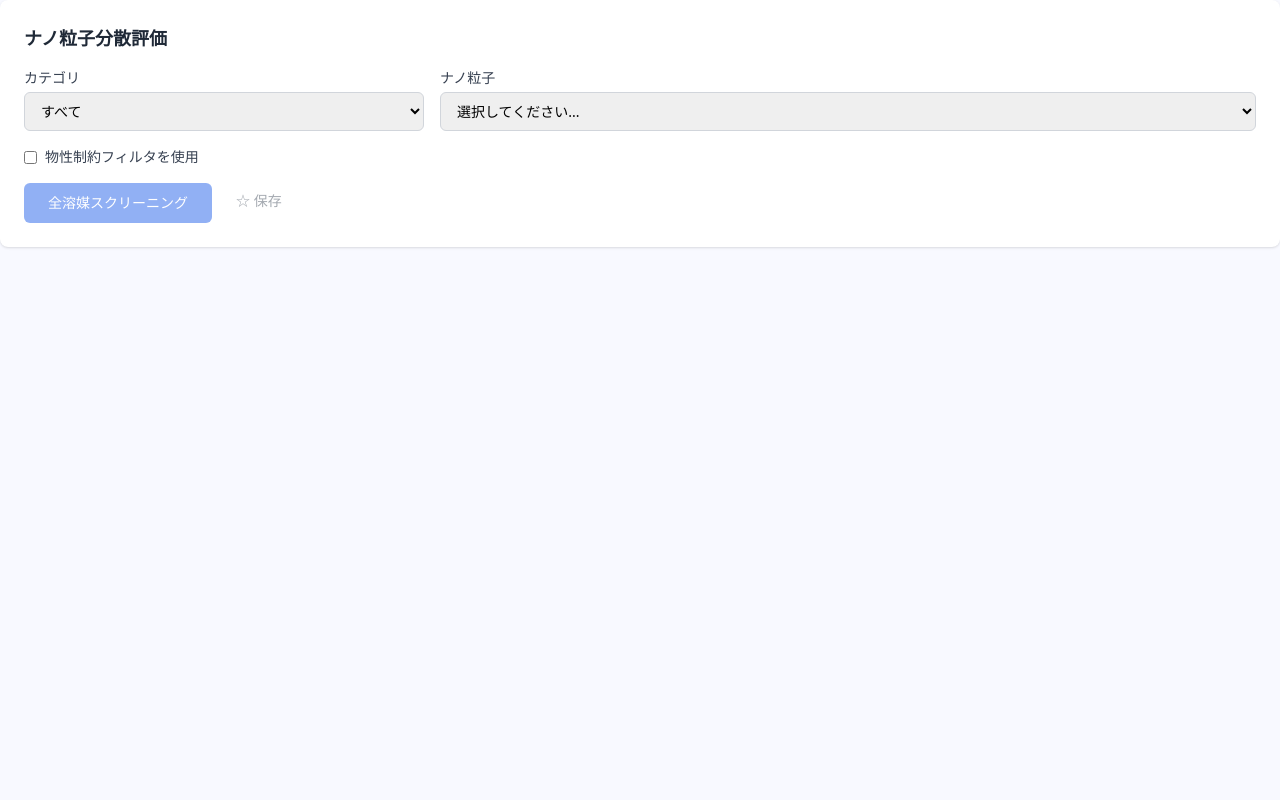
NanoDispersionView › ナノ粒子を選択してスクリーニング実行後に結果が表示される
The width and height of the screenshot is (1280, 800).
Select "SWCNT — カーボン系" in the 2nd dropdown at [848, 112], box [440,92,1256,131]
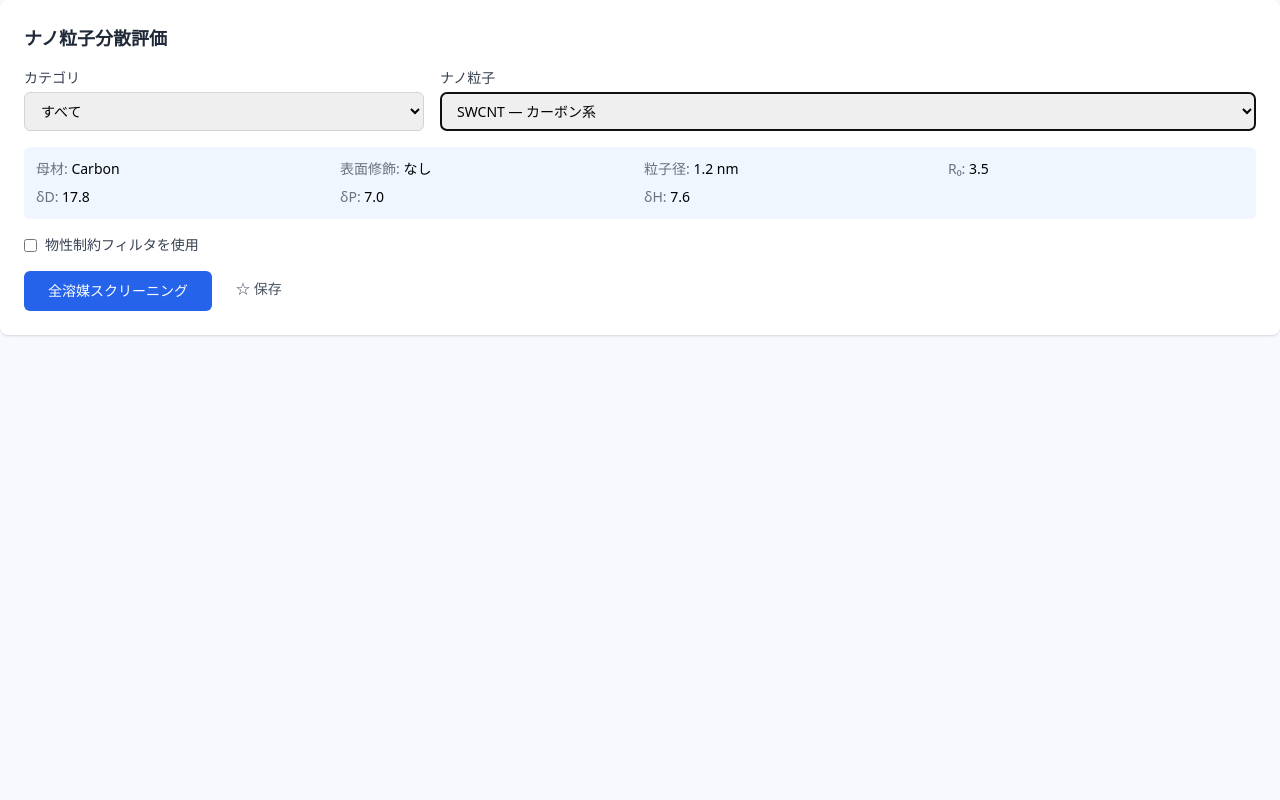
スクリーニング実行
Click the button "全溶媒スクリーニング".
click(118, 291)  # box [24,271,212,311]
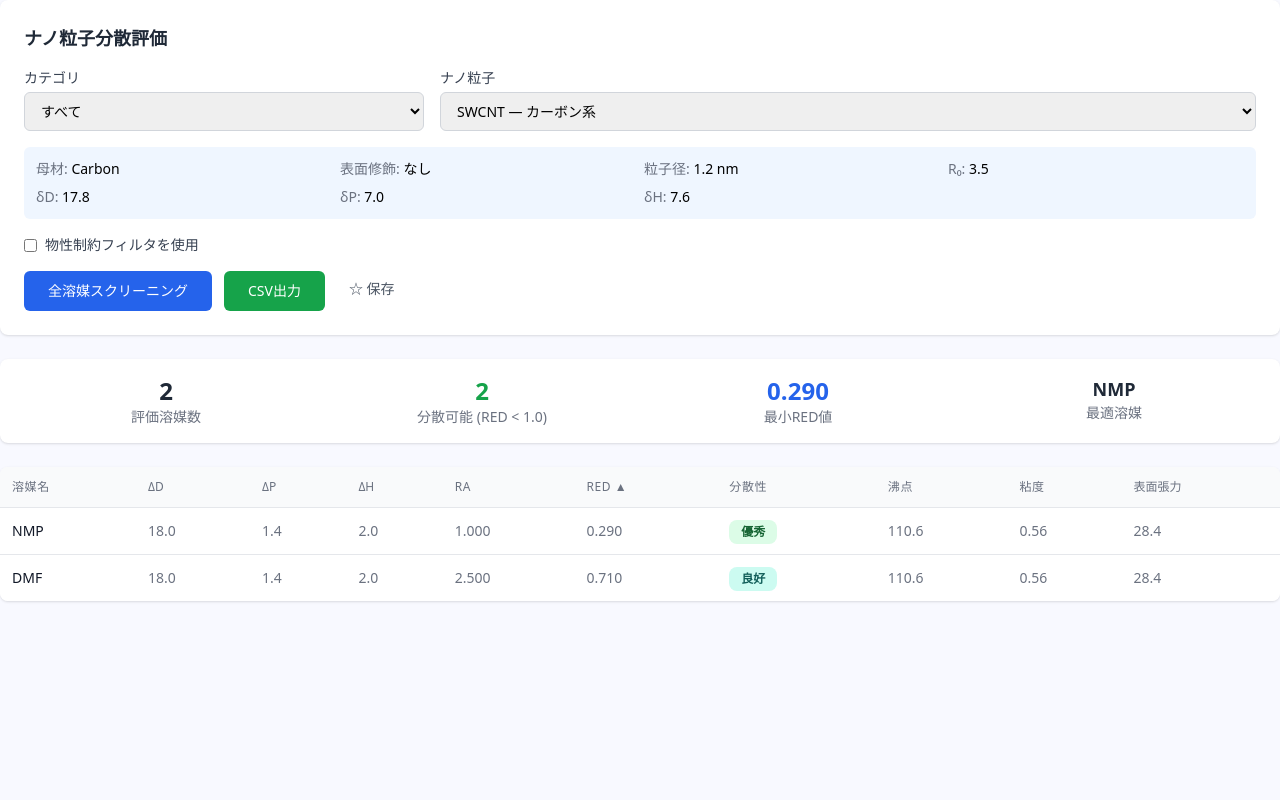
Check: the text "最適溶媒" is shown, box [1086,403,1142,422]
